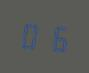six: (44, 20, 68, 55)
zero: (19, 17, 43, 52)
